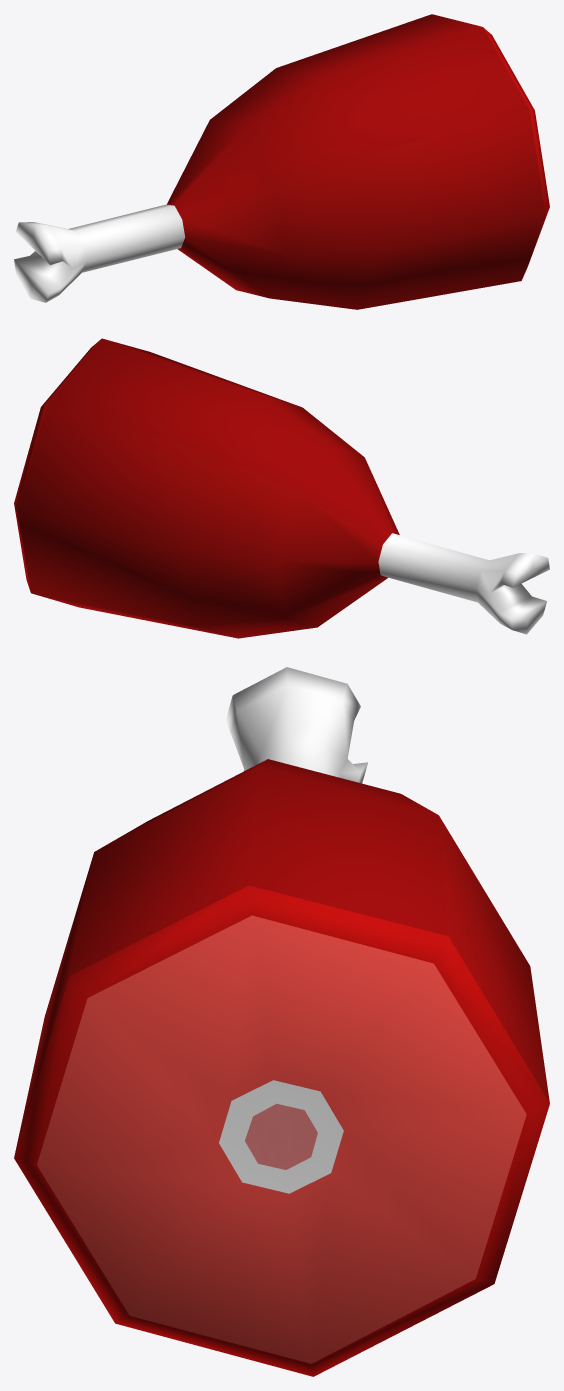
Rendered from SM_Meat.fbx.
3 views of the same model, one above another, from view 1: azimuth 30°, elevation 25°; view 2: azimuth 150°, elevation 25°; view 3: azimuth 270°, elevation 25° (orthographic). The views are drawn at different scales.
Visible parts, largest first — view 1: SM_Meat; view 2: SM_Meat; view 3: SM_Meat.
Part boxes in pixels (x1,y1,x2,y2): SM_Meat: (14,14,549,309); SM_Meat: (14,338,549,638); SM_Meat: (14,667,549,1376).
Size of the model in its own units: 97.11 by 52.34 by 52.29.
